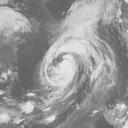cyclone: (40, 31, 103, 99)
